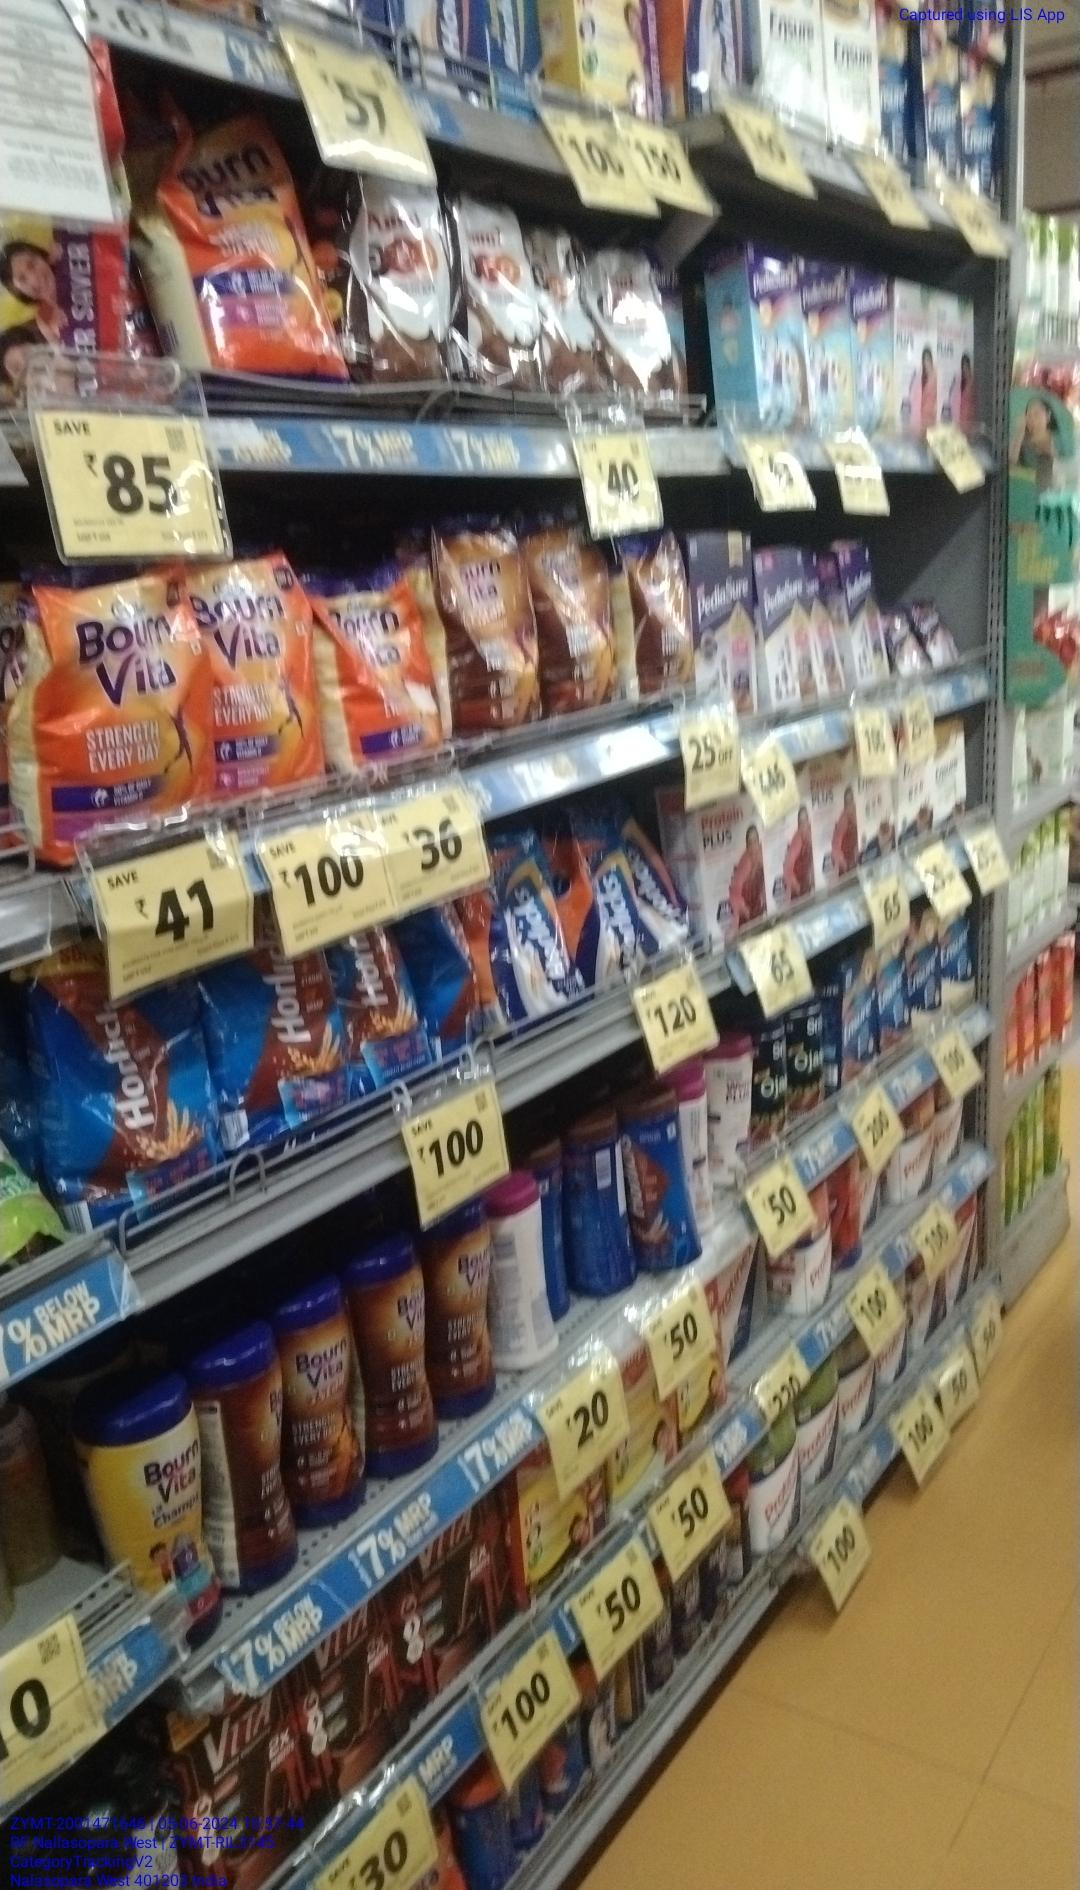BOURN_VITA_CHAMPS_500_G_JAR: (100, 1379, 206, 1678)
BOURN_VITA_FIVE_STAR_MAGIC_500_G_JAR: (280, 1292, 357, 1523), (366, 1228, 428, 1477), (435, 1201, 495, 1411)
BOURN_VITA_FIVE_STAR_MAGIC_750_G_POUCH: (444, 510, 523, 735), (534, 501, 610, 710)
